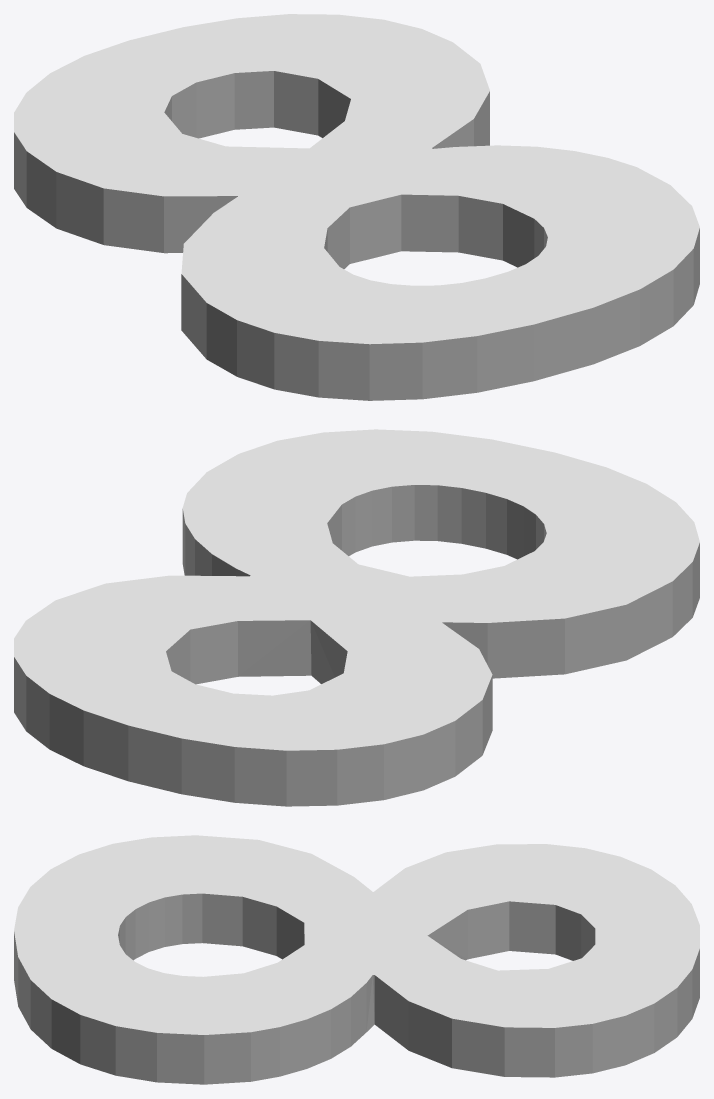
The model's file is shuzi08.FBX.
The picture shows the model from 3 angles, top to bottom: view 1: azimuth 30°, elevation 25°; view 2: azimuth 150°, elevation 25°; view 3: azimuth 270°, elevation 25°; orthographic projection. The views are drawn at different scales.
Visible parts, largest first — view 1: shuzi08; view 2: shuzi08; view 3: shuzi08.
Boxes of the visible parts, box(x1,y1,x2,y2) form: shuzi08: box(14, 14, 699, 400); shuzi08: box(14, 429, 699, 806); shuzi08: box(14, 835, 699, 1084).
Bounding box in the file's own units: 77.36 × 8.95 × 112.
